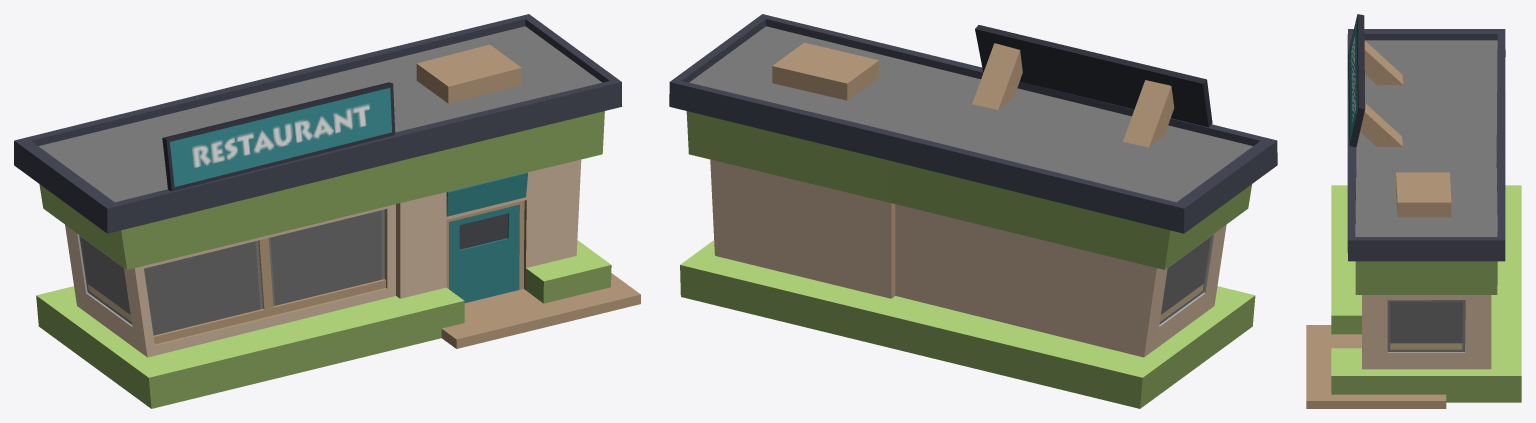
The model's file is restaurant01_color03.fbx.
3 renders of one model, left to right at view 1: azimuth 30°, elevation 25°; view 2: azimuth 150°, elevation 25°; view 3: azimuth 270°, elevation 25°, orthographic. The views are drawn at different scales.
Parts seen in each view (by area): view 1: restaurant01_color03; view 2: restaurant01_color03; view 3: restaurant01_color03.
Boxes of the visible parts, left/top/right/bottom form: restaurant01_color03: left=14, top=14, right=640, bottom=408; restaurant01_color03: left=669, top=14, right=1277, bottom=408; restaurant01_color03: left=1306, top=14, right=1521, bottom=408.
Size of the model in its own units: 1598 by 745 by 686.
